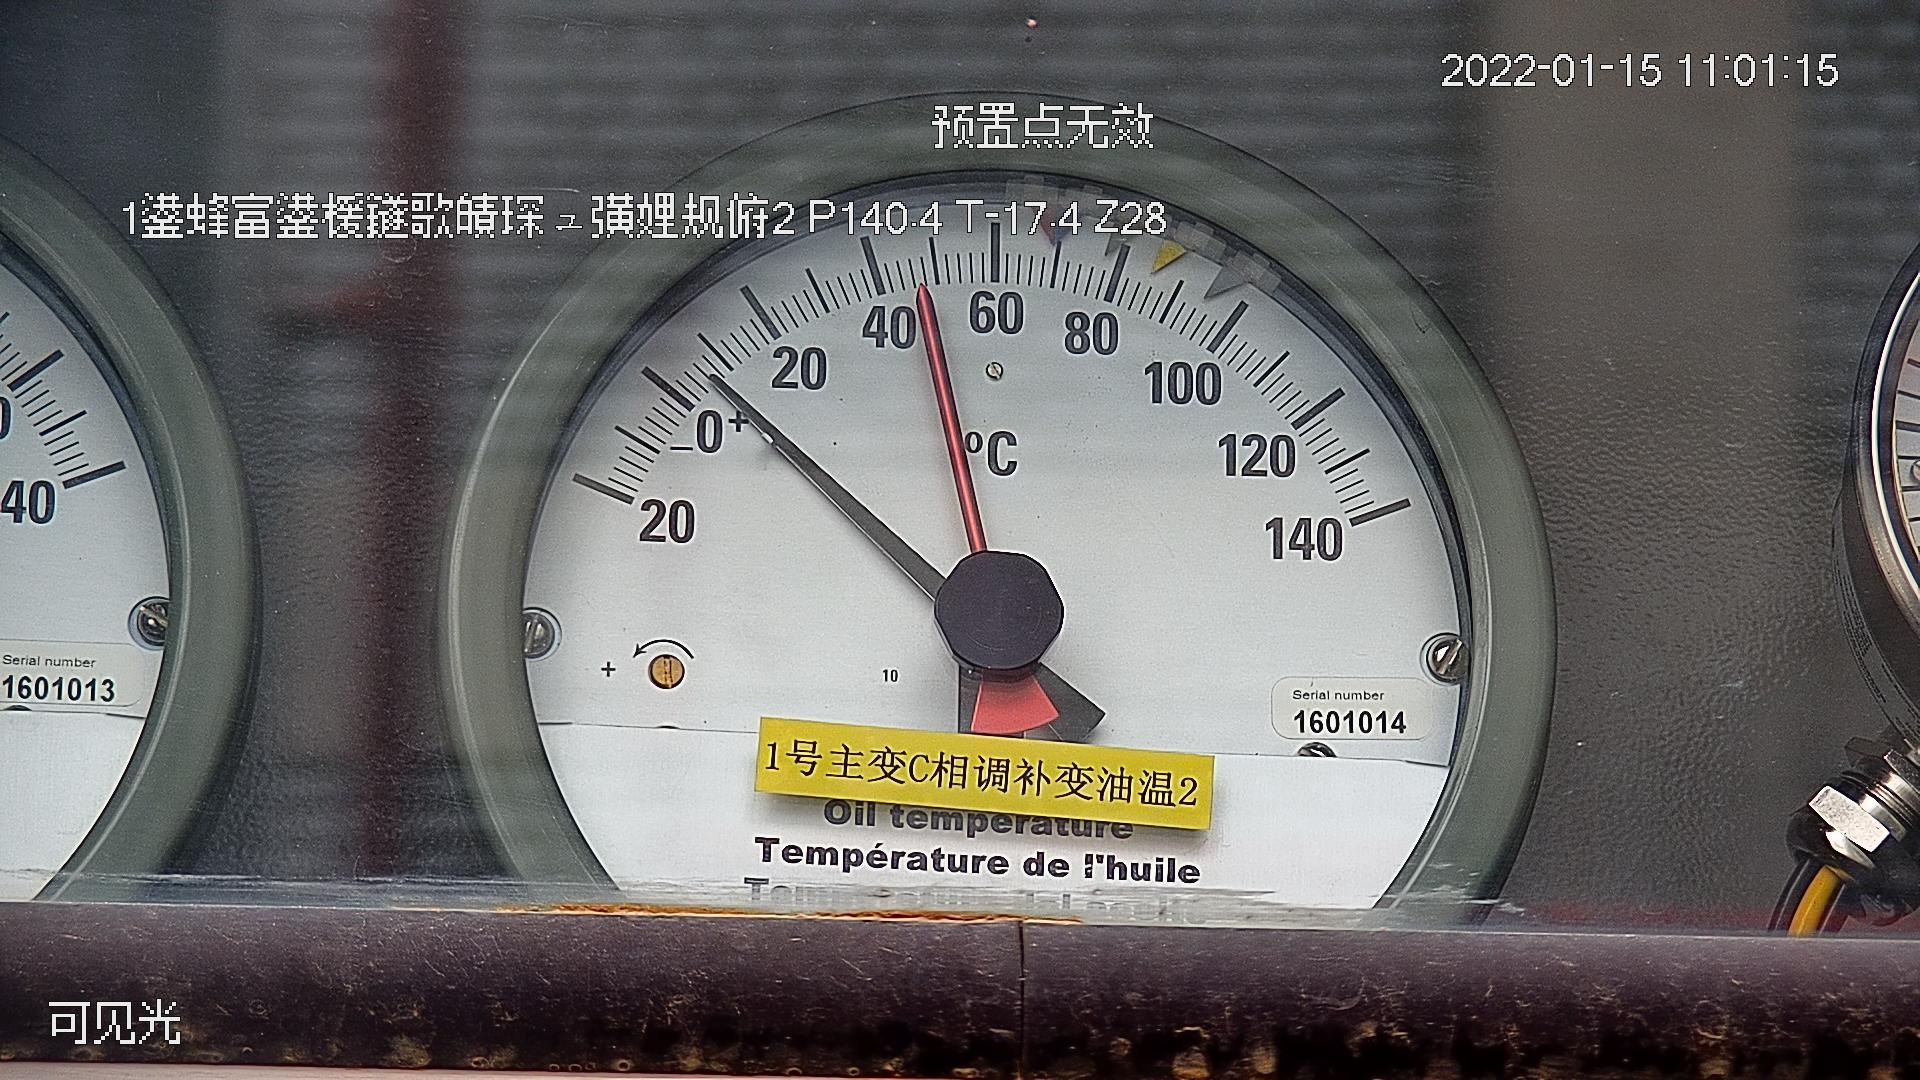yibiao: (500, 156, 1495, 942)
